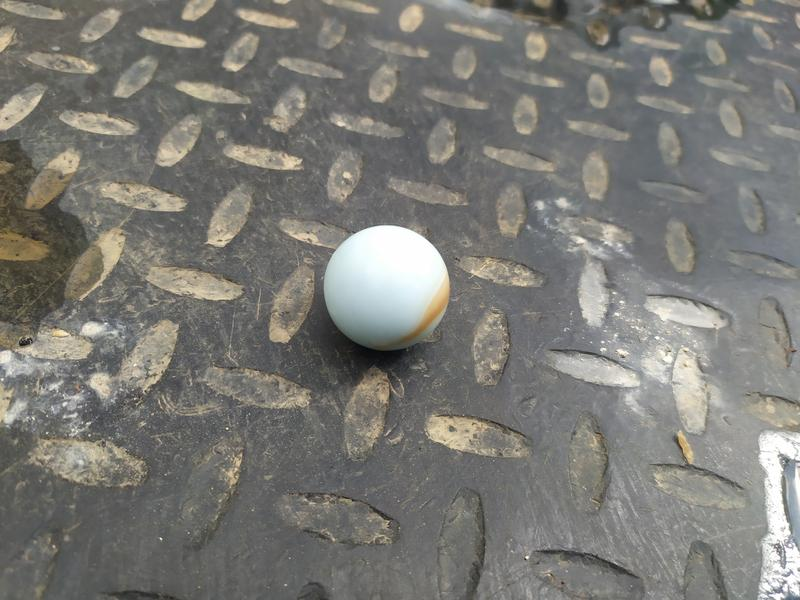Warning: (319, 221, 453, 354)
